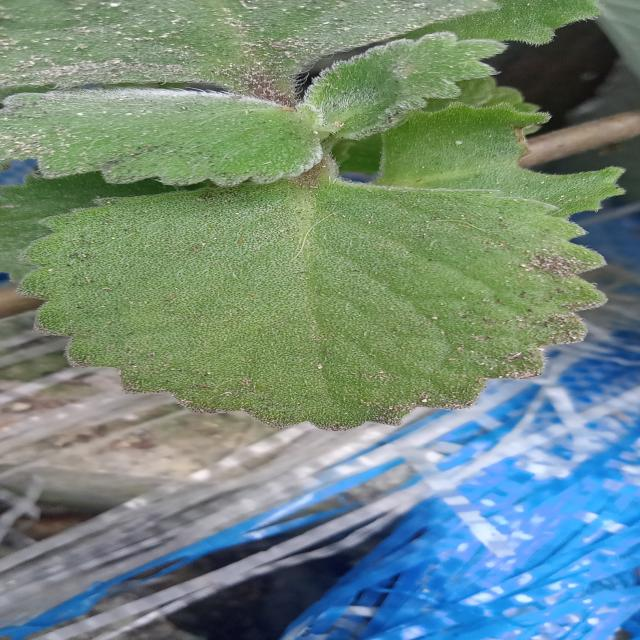Oregano: (22, 172, 626, 440)
